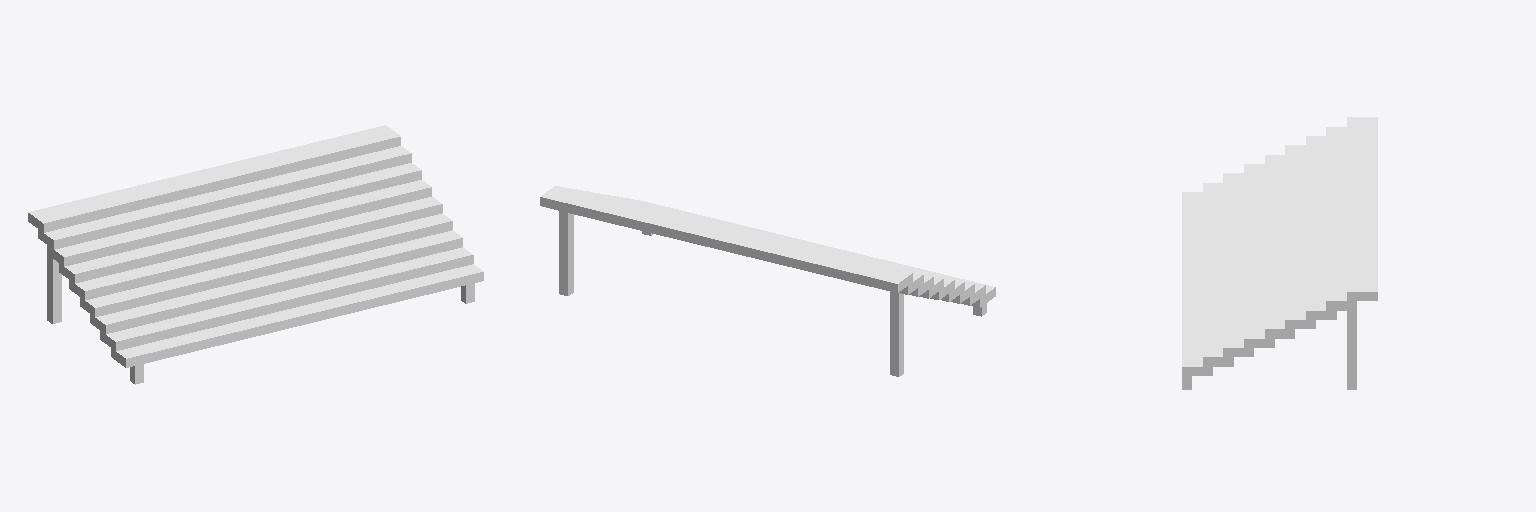
The model's file is solarpanelStand.obj.
The picture shows the model from 3 angles: view 1: azimuth 30°, elevation 25°; view 2: azimuth 150°, elevation 25°; view 3: azimuth 270°, elevation 25°; orthographic projection.
Visible parts, largest first — view 1: object 1; view 2: object 1; view 3: object 1.
Boxes of the visible parts, <box> form: object 1: <box>28,125,483,384</box>; object 1: <box>540,186,995,376</box>; object 1: <box>1182,117,1377,389</box>.
Size of the model in its own units: 4 by 1.1 by 1.9.